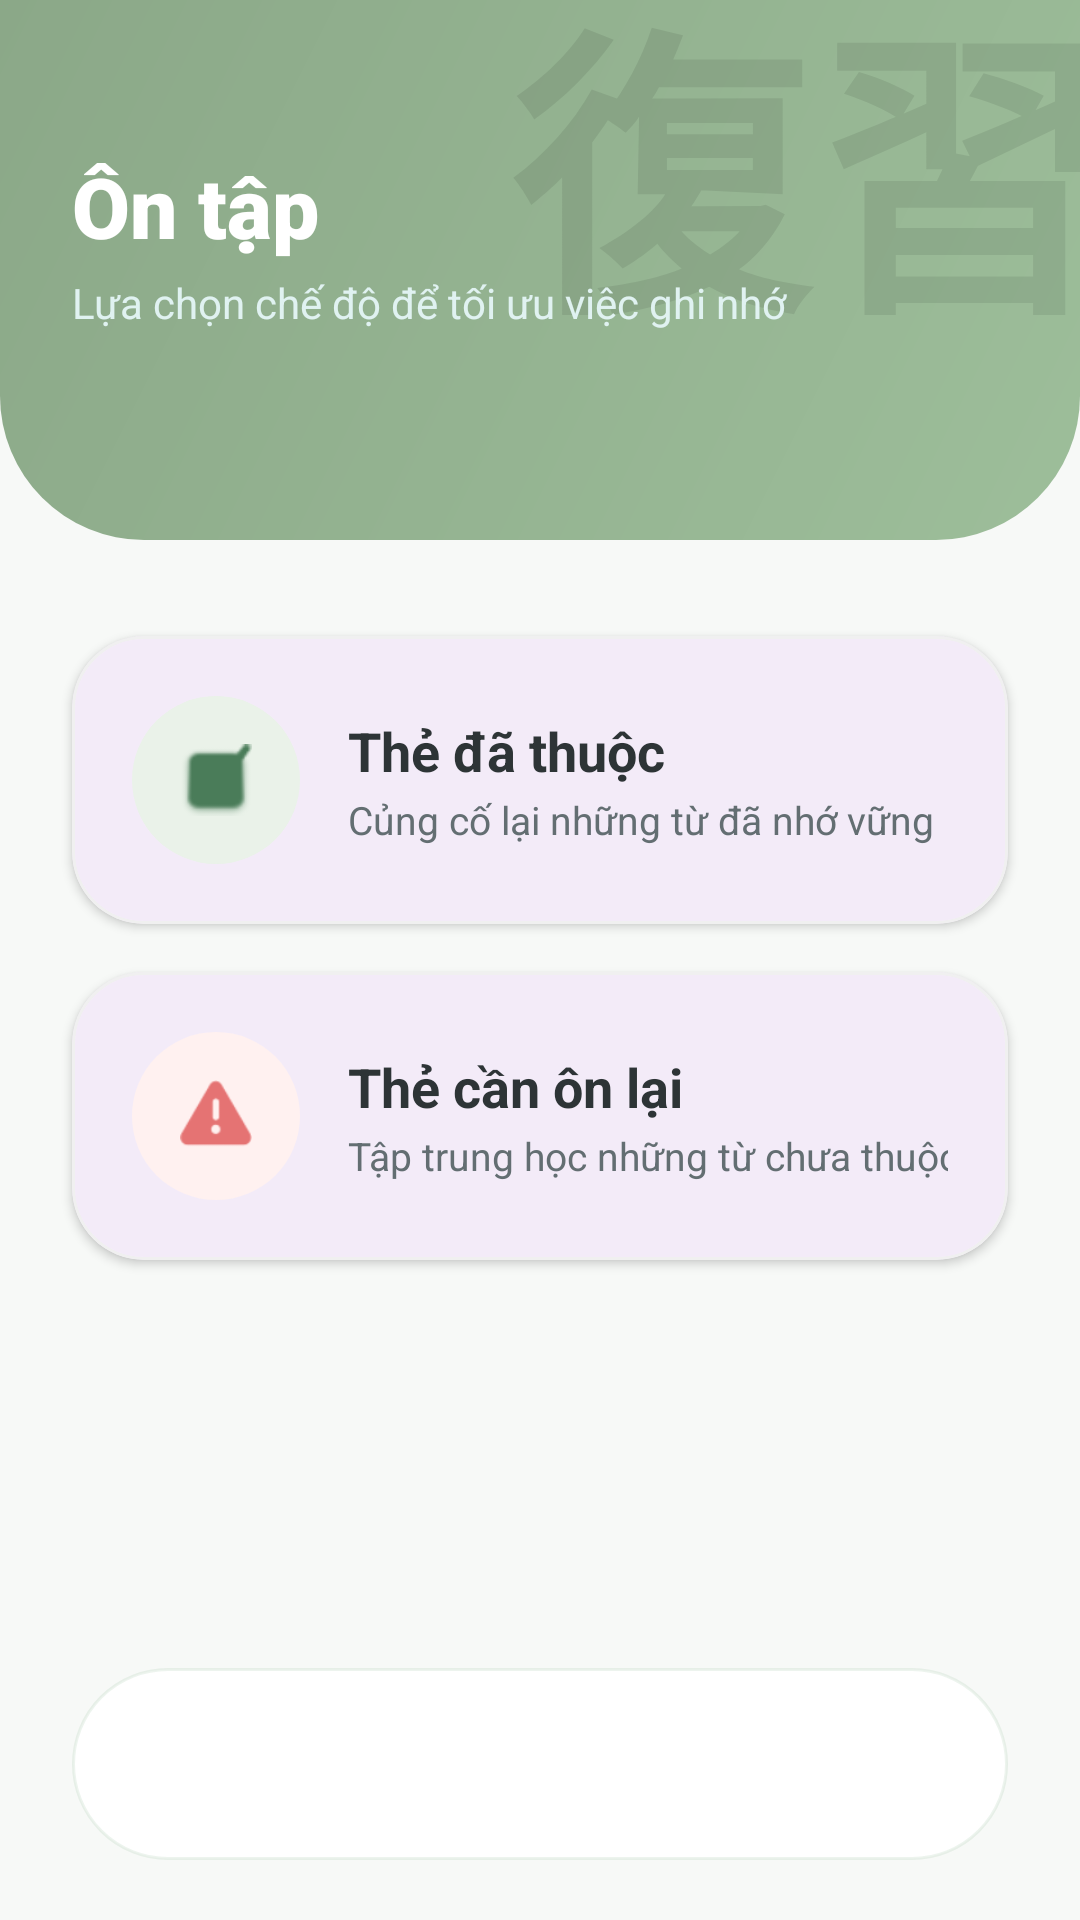

Icon click points for this 1080x1920 phone screenshot, format [x,y]:
alert: [216,1113]
